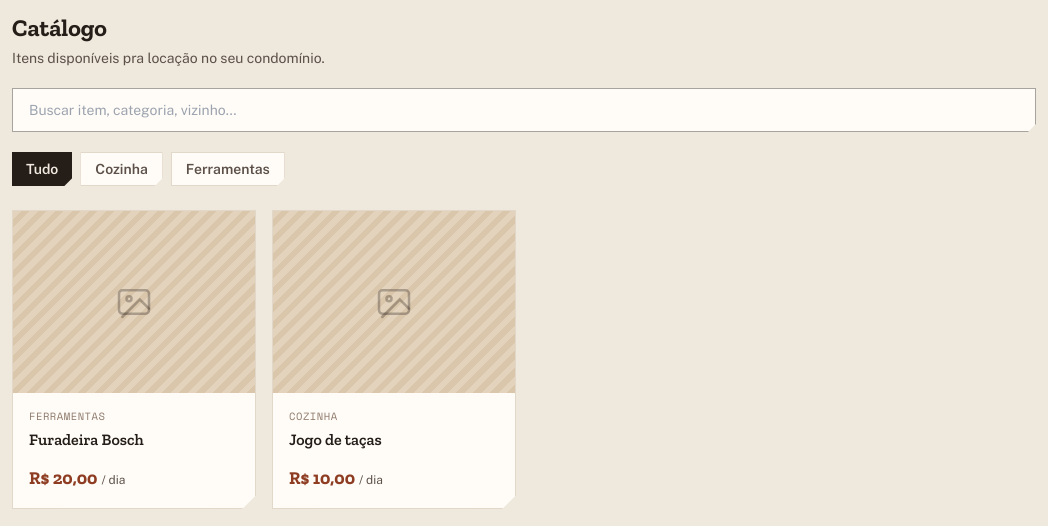
CatalogoPage › filtra por categoria ao clicar num chip
Expected: the heading "Furadeira Bosch" is shown, [29, 430, 144, 449]
Click the button "Cozinha": (122, 169) [80, 152, 163, 186]
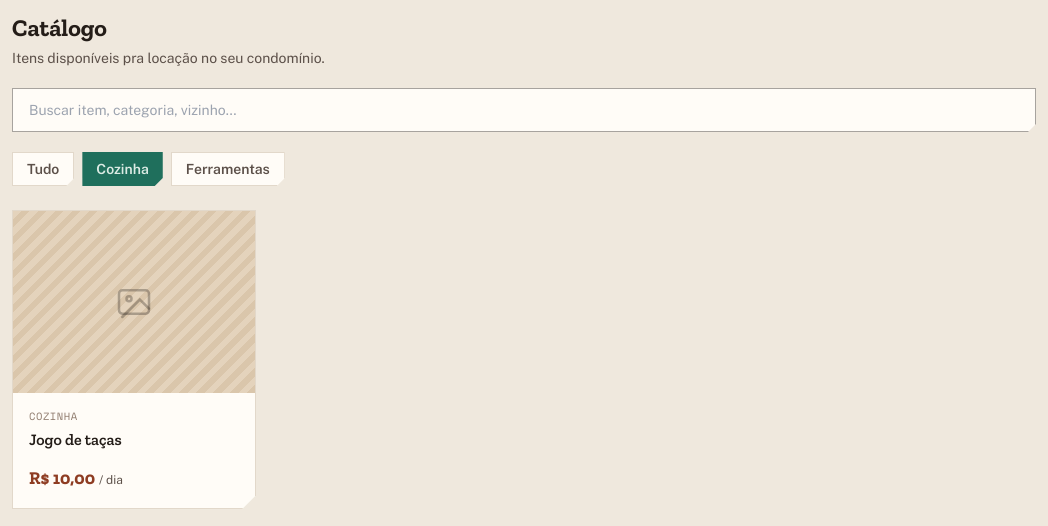
Expected: the heading "Jogo de taças" is shown, [29, 430, 122, 449]
Now the link "Furadeira Bosch" is gone
